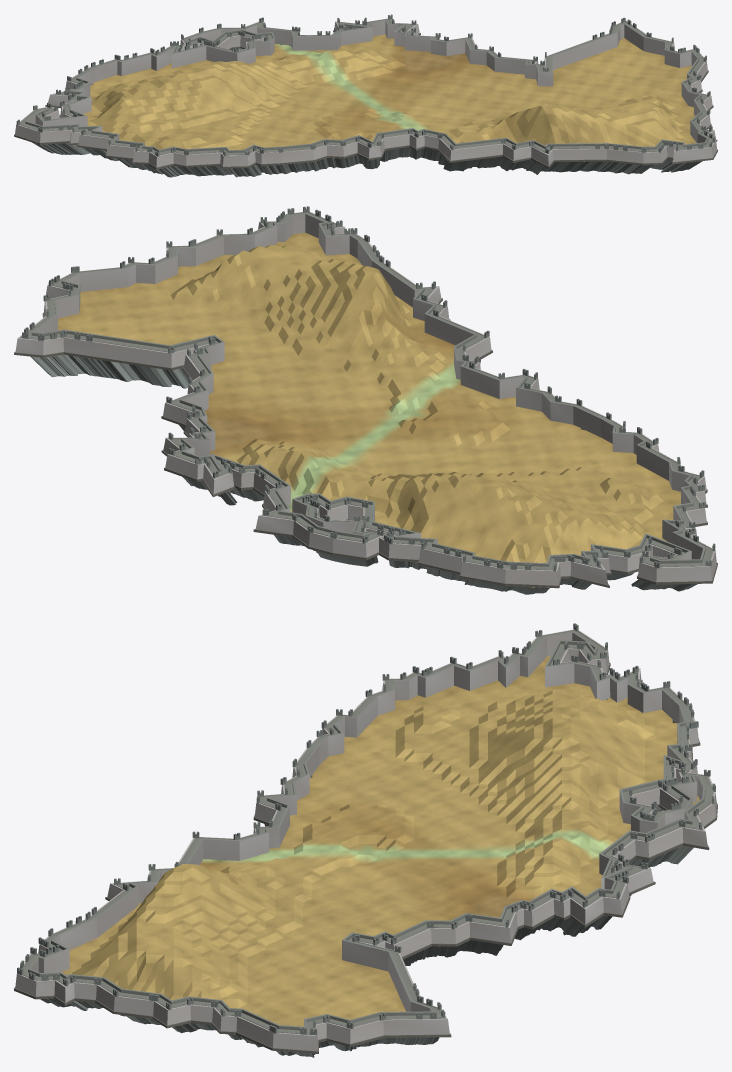
The picture shows the model from 3 angles, top to bottom: view 1: azimuth 30°, elevation 25°; view 2: azimuth 150°, elevation 25°; view 3: azimuth 270°, elevation 25°; orthographic projection. The views are drawn at different scales.
Visible parts, largest first — view 1: ground_14867c7f; view 2: ground_14867c7f; view 3: ground_14867c7f.
Part boxes in pixels (x1,y1,x2,y2): ground_14867c7f: [14, 14, 717, 177]; ground_14867c7f: [14, 206, 717, 594]; ground_14867c7f: [14, 623, 717, 1057].
Bounding box in the file's own units: 157 × 12.63 × 114.
3 materials, 1 textured.
